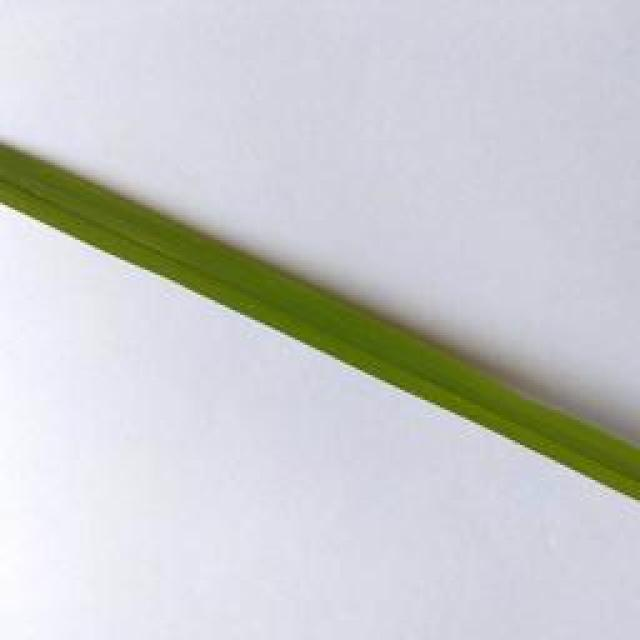Healthy-Plant: (0, 143, 640, 505)
